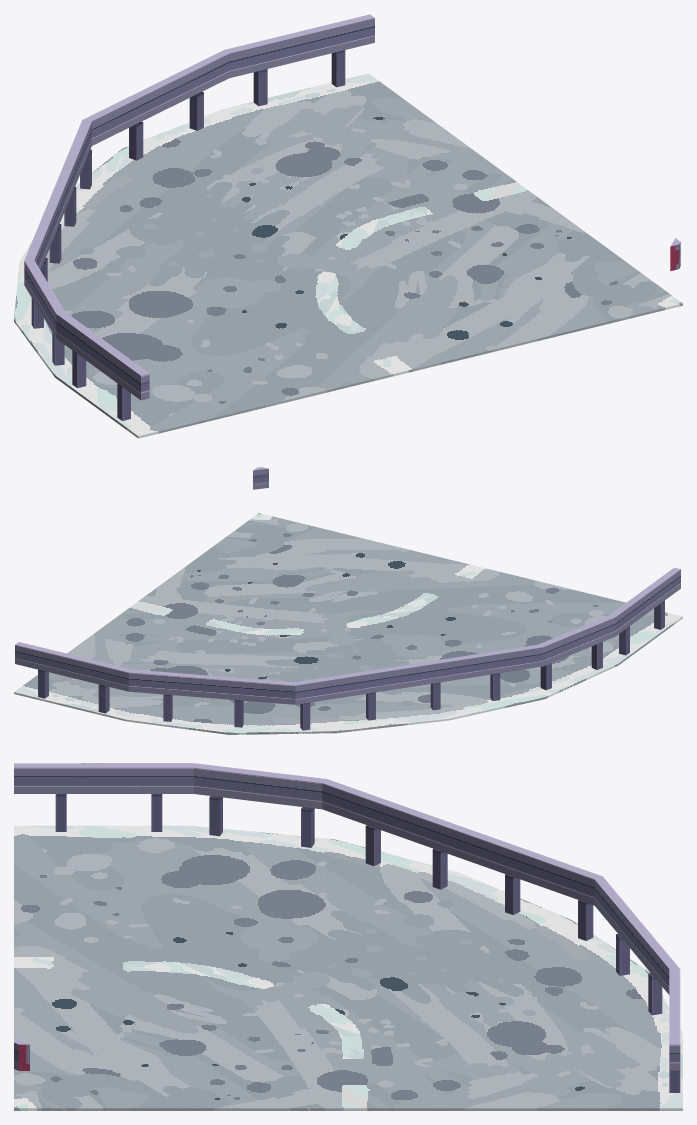
File: Roads_turn2.glb
3 views of the same model, one above another, from view 1: azimuth 30°, elevation 25°; view 2: azimuth 150°, elevation 25°; view 3: azimuth 270°, elevation 25° (orthographic). The views are drawn at different scales.
Parts seen in each view (by area): view 1: Road_Turning, Road_Turning_barriere; view 2: Road_Turning, Road_Turning_barriere; view 3: Road_Turning, Road_Turning_barriere.
Part boxes in pixels (<box>): Road_Turning: <box>14,73,682,438</box>; Road_Turning_barriere: <box>24,14,680,420</box>; Road_Turning: <box>14,513,682,734</box>; Road_Turning_barriere: <box>15,467,680,730</box>; Road_Turning: <box>14,825,682,1110</box>; Road_Turning_barriere: <box>14,763,680,1092</box>.
Size of the model in its own units: 10 by 1.09 by 10.
2 materials, 2 textured.
